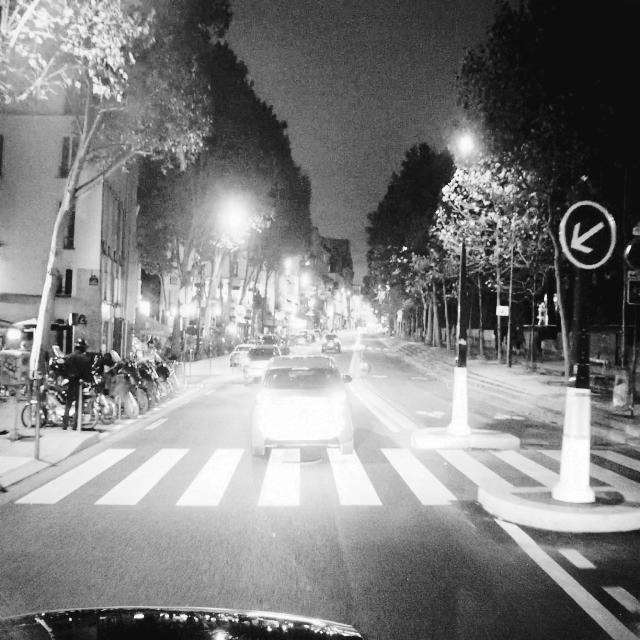Sign: (559, 201, 617, 271), (625, 226, 639, 306)
